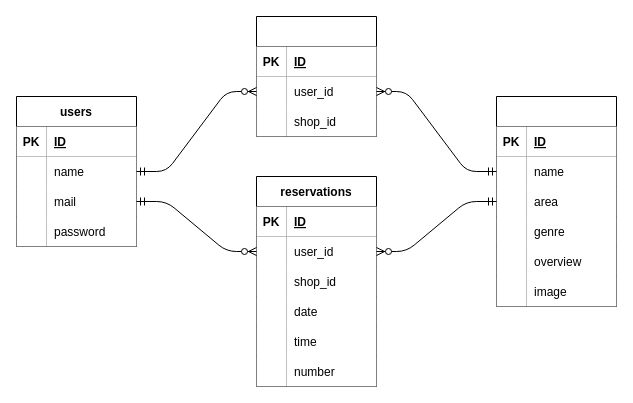
Image size: 633x403. Some labels were removed from this diagram. Here are the shapes that lost their labels. From the top down, the box of each, then its label:
(256, 16, 376, 136): favorites
(496, 96, 616, 306): shops
